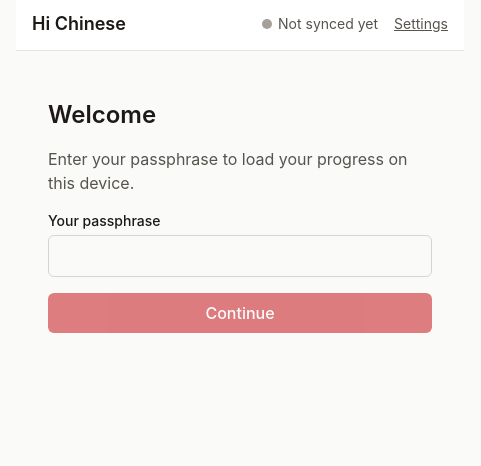
Test case: app shell › offers to continue offline when the server is unreachable
This screenshot has width=481, height=466.
Type "test-passphrase" into the password field labelled "Your passphrase" at (240, 256), box 48,235 -> 432,277
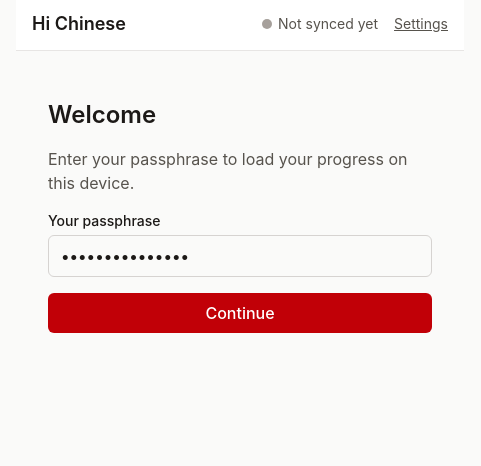
Click the button "Continue" at (240, 313), box 48,293 -> 432,333
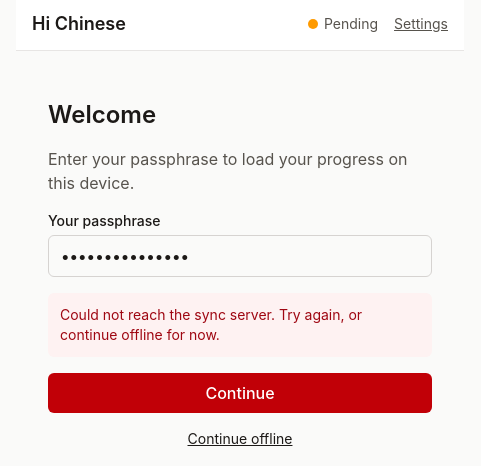
Click the button "Continue offline" at (240, 439), box 48,429 -> 432,449
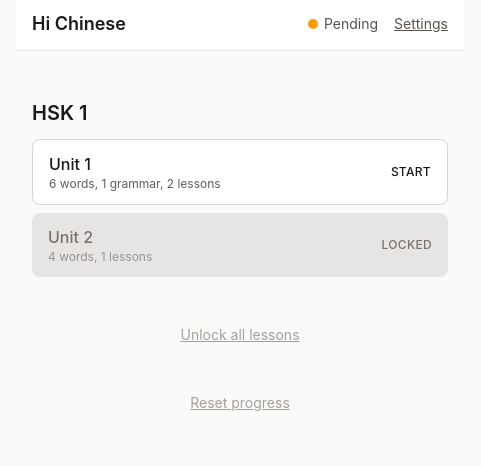
Expected: the heading "HSK 1" is shown, 32,101 -> 88,125
